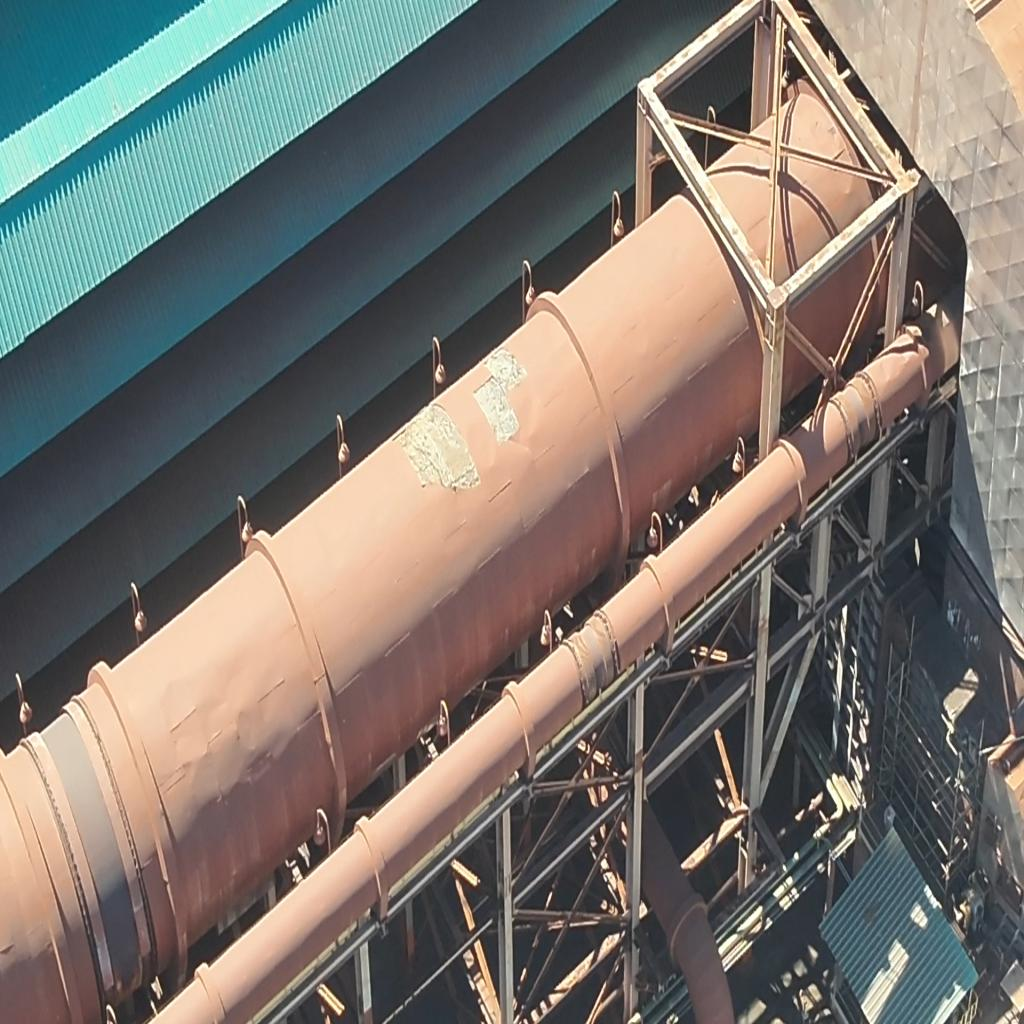Failures: (397, 402, 480, 493), (476, 379, 518, 443), (486, 348, 526, 390)
